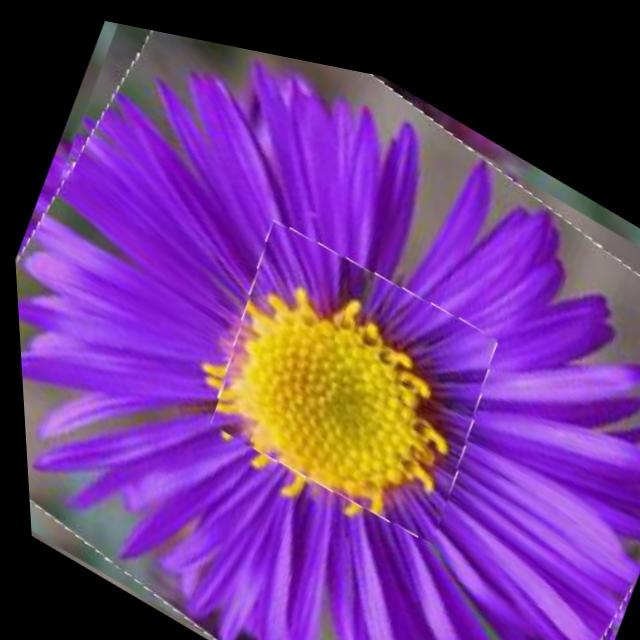Flower: (186, 188, 511, 550)
